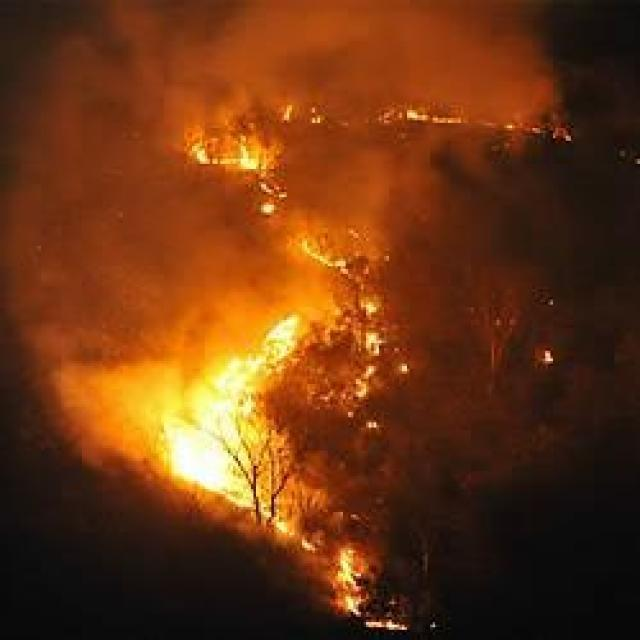Fire: (116, 361, 350, 511), (301, 219, 427, 386), (301, 94, 572, 158), (166, 376, 270, 490), (204, 82, 291, 201), (321, 550, 425, 640), (306, 521, 383, 640), (343, 303, 387, 421), (258, 290, 331, 360), (517, 329, 566, 396)
Smoke: (0, 19, 186, 354), (231, 0, 523, 70)
